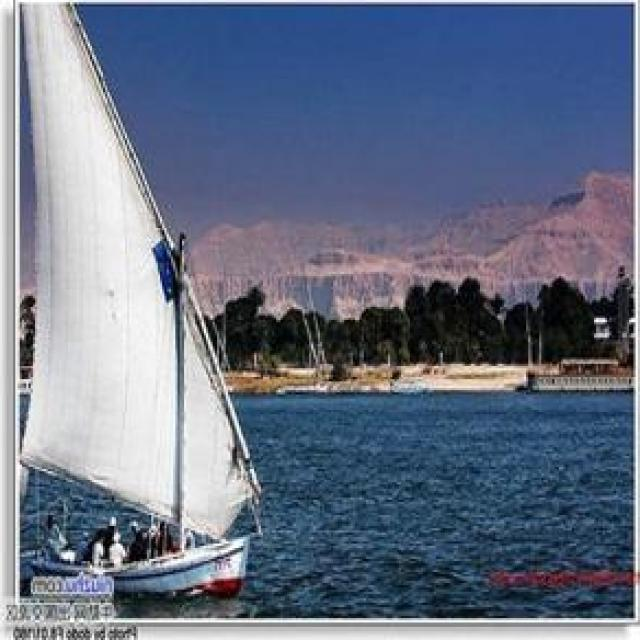sailboat: (27, 0, 262, 600)
